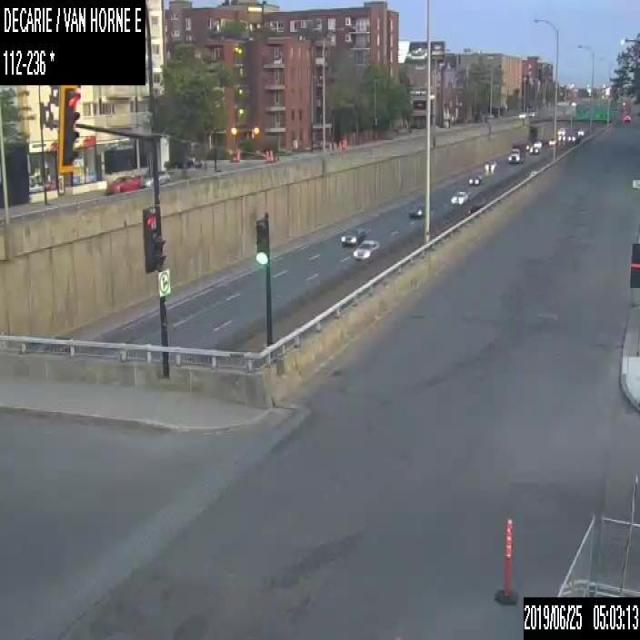construction: (493, 514, 520, 606), (268, 149, 272, 161), (237, 147, 240, 160), (265, 148, 268, 160)
vehicle: (139, 166, 171, 186), (352, 238, 378, 260), (106, 175, 138, 192), (340, 227, 365, 246), (171, 155, 202, 168), (508, 139, 524, 163), (409, 200, 424, 217), (449, 190, 467, 204), (565, 126, 578, 144), (467, 172, 482, 186), (483, 157, 497, 170), (533, 136, 543, 148), (529, 144, 538, 154), (557, 126, 565, 135), (548, 137, 556, 145), (622, 114, 629, 121), (558, 133, 564, 141), (578, 128, 584, 136)
